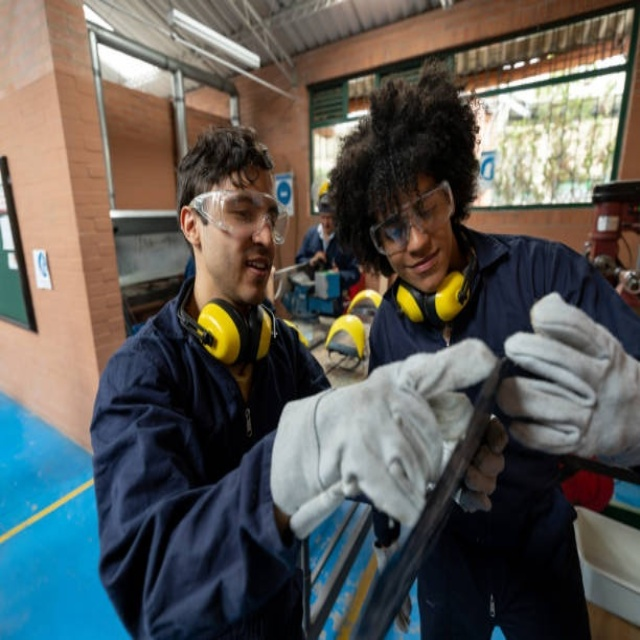Gafas: (371, 178, 456, 259), (187, 188, 293, 248)
Guantes: (264, 335, 497, 555), (497, 282, 637, 477)
Sin_mascara: (402, 241, 444, 286), (235, 251, 273, 294)
